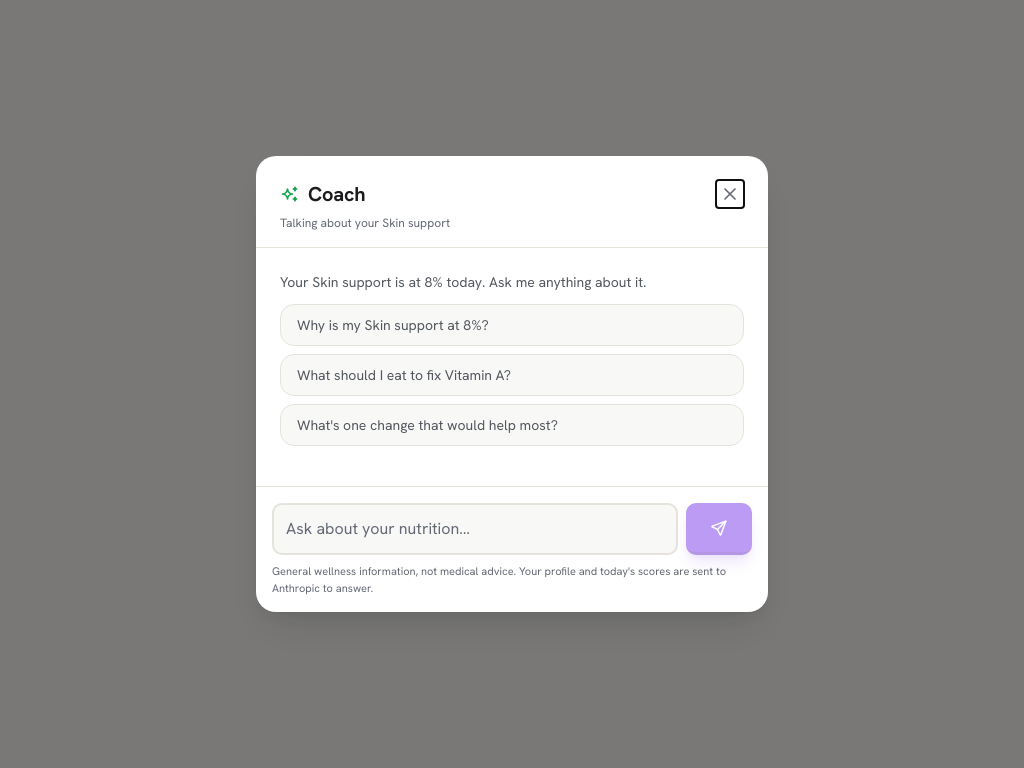
Scenario: Coach — safety screen › shows eating-disorder support for a restriction request
Type "how do I make myself throw up after eating" into the field named "Message the coach" at [475, 529], box x1=272 y1=503 x2=678 y2=555
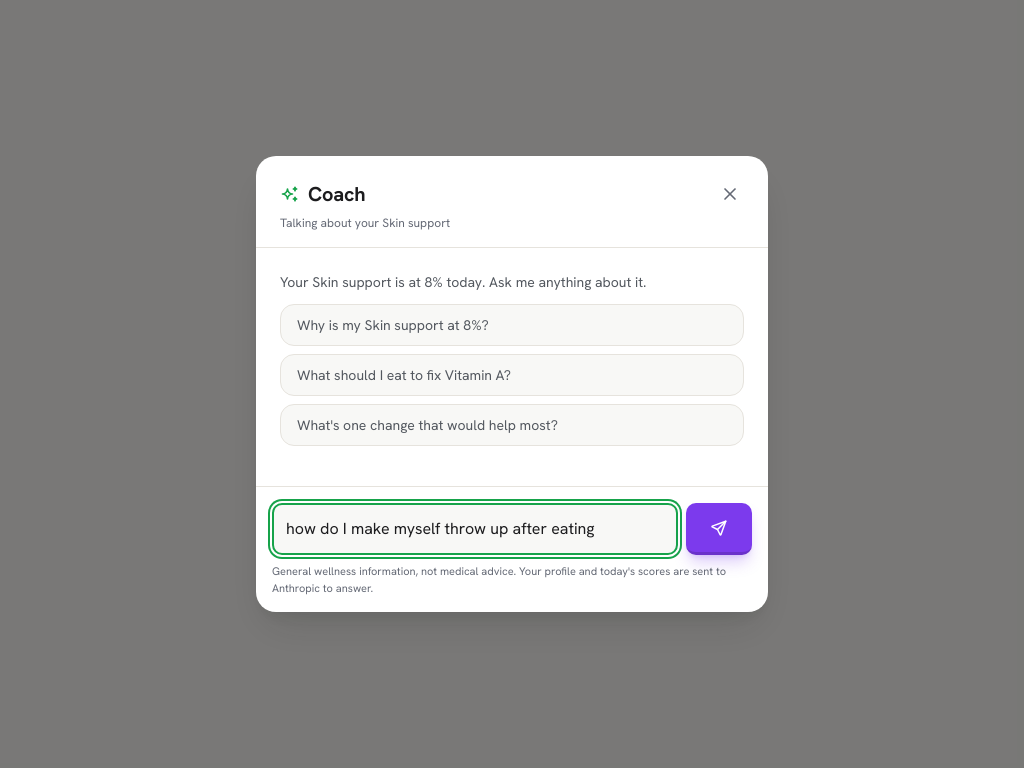
Click the button named "Send" at [719, 529], box x1=686 y1=503 x2=752 y2=555
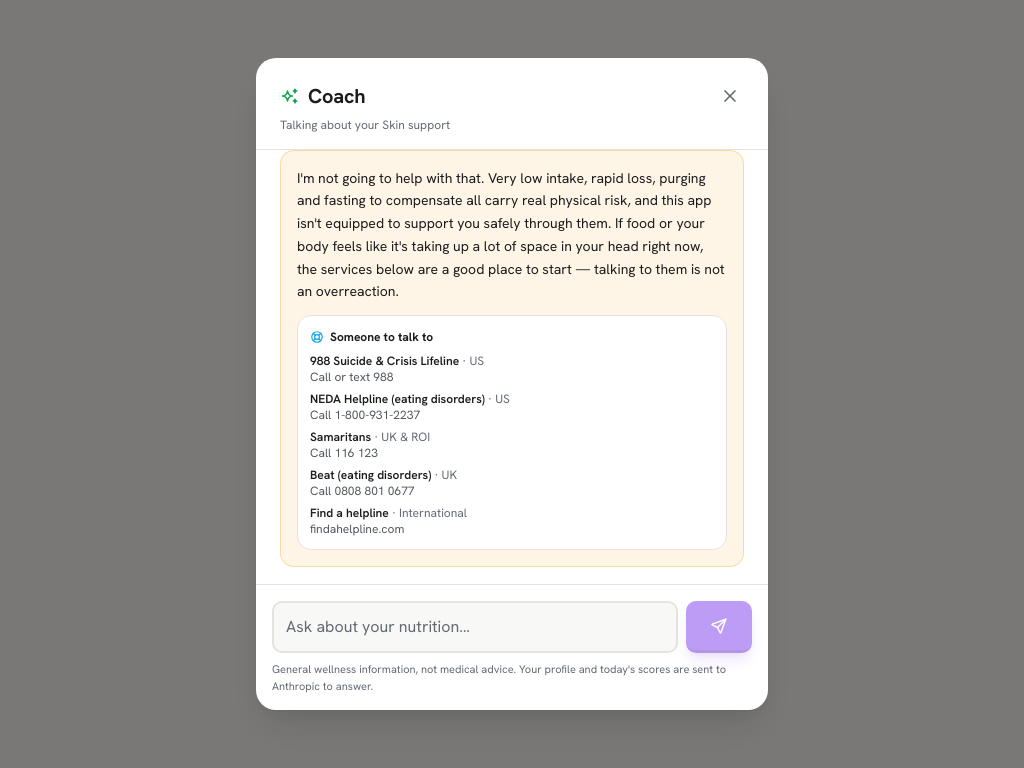
Check: the text "NEDA Helpline (eating disorders)" is shown, box x1=310 y1=391 x2=485 y2=407
